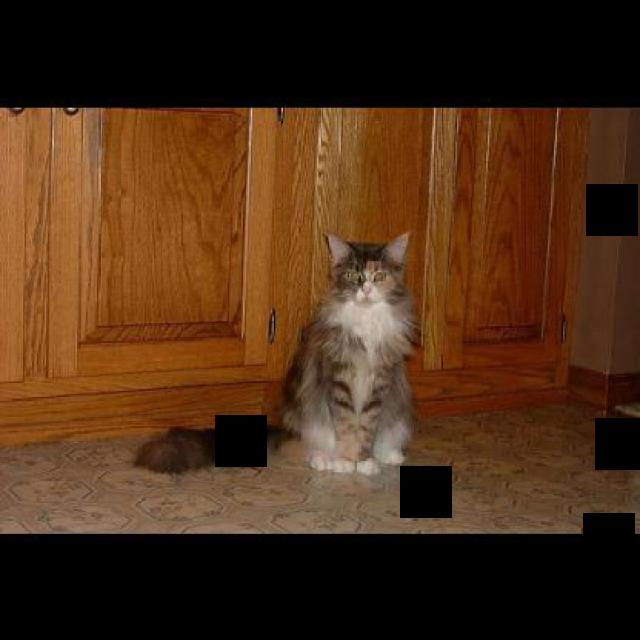unauthorized: (132, 229, 420, 477)
